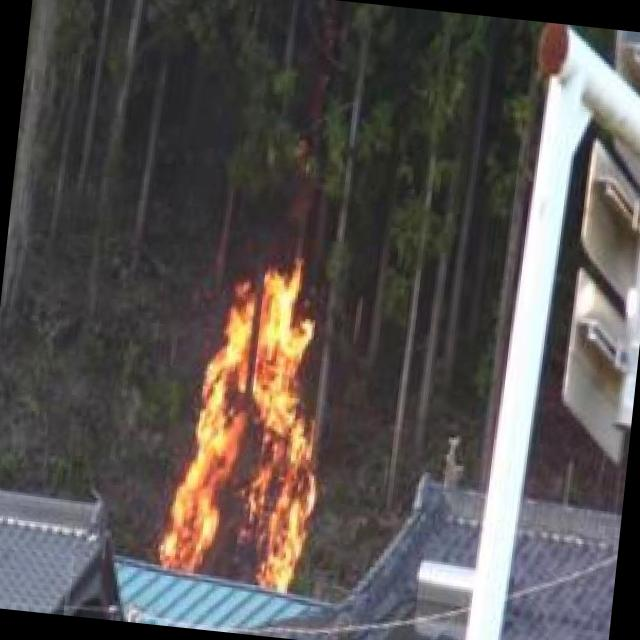Fire: (153, 266, 340, 600)
